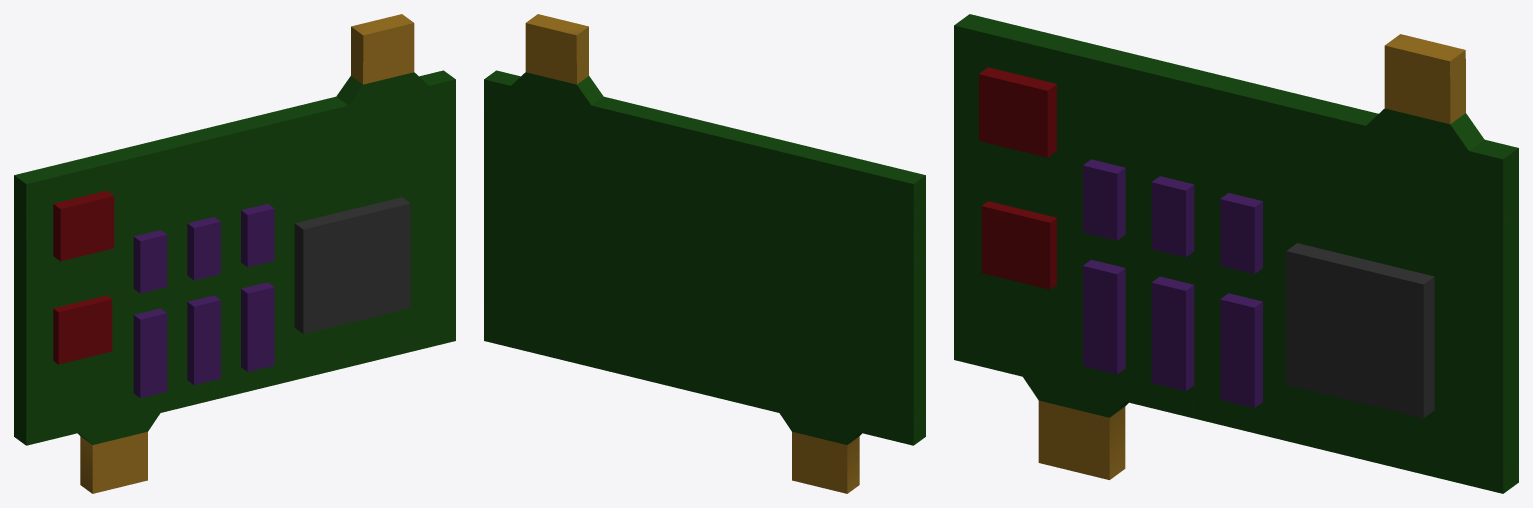
The model's file is board_main.fbx.
3 views of the same model, side by side, from view 1: azimuth 30°, elevation 25°; view 2: azimuth 150°, elevation 25°; view 3: azimuth 330°, elevation 25° (orthographic). The views are drawn at different scales.
Visible parts, largest first — view 1: board_blank; view 2: board_blank; view 3: board_blank.
Boxes of the visible parts, bbox=[...] form: board_blank: bbox=[14, 14, 455, 493]; board_blank: bbox=[484, 14, 925, 493]; board_blank: bbox=[954, 14, 1518, 493].
Bounding box in the file's own units: 7.32 × 6.4 × 0.6146.
